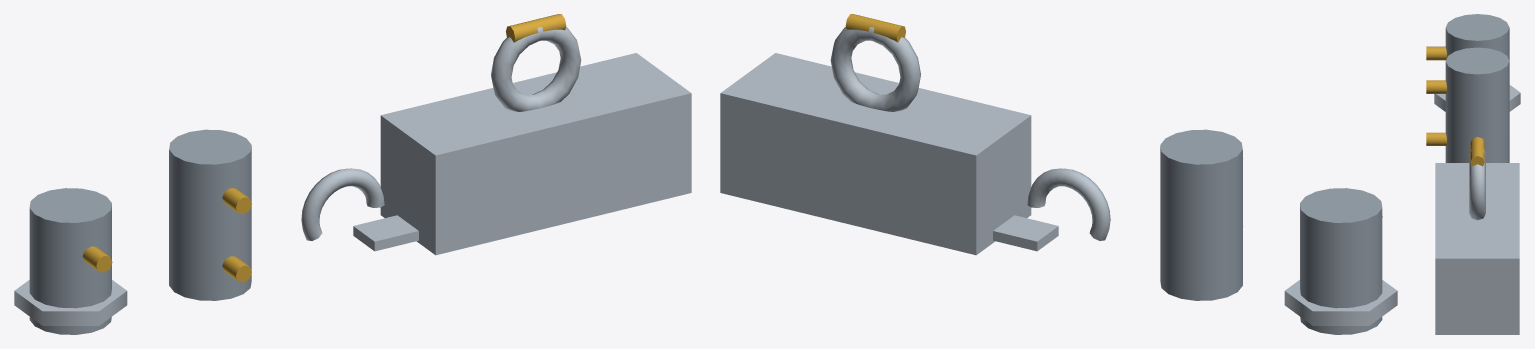
3 renders of one model, left to right at view 1: azimuth 30°, elevation 25°; view 2: azimuth 150°, elevation 25°; view 3: azimuth 270°, elevation 25°, orthographic. The views are drawn at different scales.
Visible parts, largest first — view 1: cad-fitting-emt-kit; view 2: cad-fitting-emt-kit; view 3: cad-fitting-emt-kit.
Part boxes in pixels (bbox=[...]): cad-fitting-emt-kit: bbox=[14, 14, 691, 334]; cad-fitting-emt-kit: bbox=[720, 14, 1397, 334]; cad-fitting-emt-kit: bbox=[1426, 14, 1520, 334].
Bounding box in the file's own units: 0.2732 × 0.0765 × 0.046.
